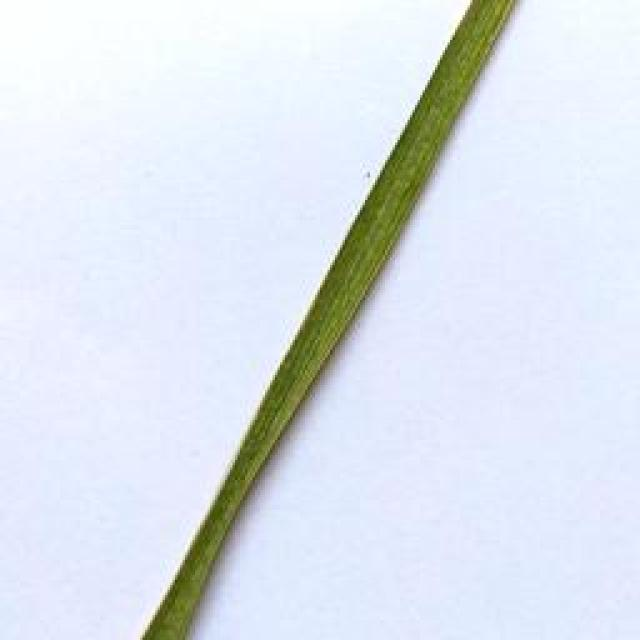Healthy-Plant: (148, 0, 519, 637)
